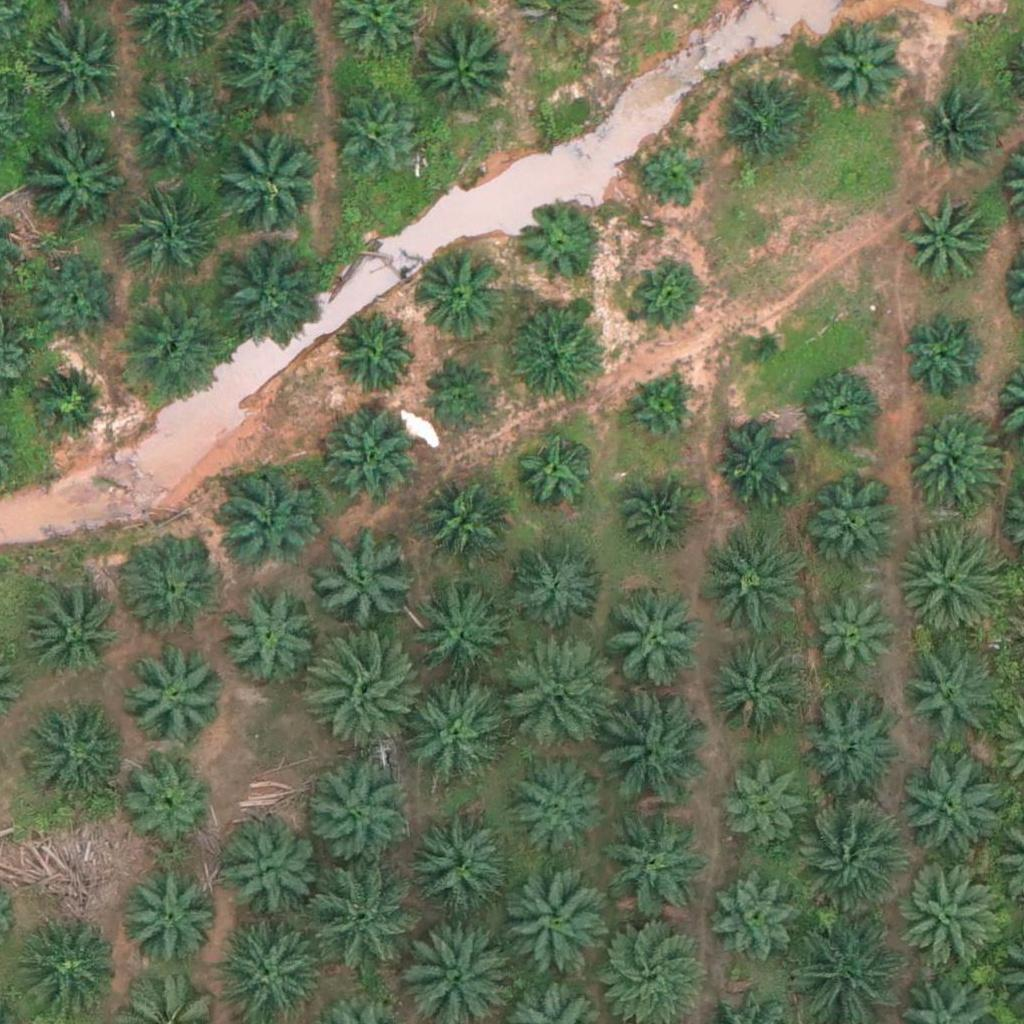Kelapa_Sawit: (214, 7, 327, 121), (498, 634, 611, 748), (18, 118, 131, 231), (117, 298, 230, 411), (206, 119, 319, 232), (497, 869, 610, 982), (791, 795, 903, 909), (595, 690, 707, 804), (111, 179, 223, 292), (210, 242, 322, 355), (898, 525, 1010, 638), (307, 863, 419, 976), (301, 753, 413, 866), (308, 633, 420, 746), (23, 13, 123, 114), (502, 312, 602, 413), (904, 411, 1004, 512), (805, 479, 905, 580), (603, 592, 703, 693), (315, 529, 415, 630), (213, 468, 313, 569), (121, 533, 221, 634), (21, 582, 121, 683), (902, 646, 1002, 747), (900, 765, 1000, 866), (800, 703, 900, 804), (504, 753, 604, 854), (403, 683, 503, 784), (407, 816, 507, 917), (218, 820, 318, 921), (123, 868, 223, 969), (126, 643, 226, 744), (22, 703, 122, 804), (122, 71, 222, 171), (410, 14, 510, 114), (714, 77, 814, 177), (703, 534, 803, 634), (318, 415, 418, 515), (217, 584, 317, 684), (902, 873, 1002, 973), (710, 864, 810, 964), (706, 638, 806, 738), (601, 815, 701, 915), (506, 535, 606, 635), (413, 590, 513, 690), (17, 922, 117, 1022), (26, 358, 114, 446), (335, 89, 423, 177), (901, 312, 989, 400), (808, 599, 896, 687), (714, 417, 802, 505), (722, 759, 810, 847), (907, 196, 994, 285), (32, 254, 119, 342), (920, 87, 1007, 175), (813, 17, 900, 105), (519, 200, 606, 288), (418, 480, 505, 568), (614, 481, 701, 569), (798, 358, 885, 446), (413, 249, 500, 337), (331, 312, 418, 400), (126, 755, 213, 843), (516, 434, 591, 510), (622, 374, 697, 450), (628, 257, 703, 333), (639, 137, 714, 213), (426, 365, 501, 440), (739, 318, 789, 368)
